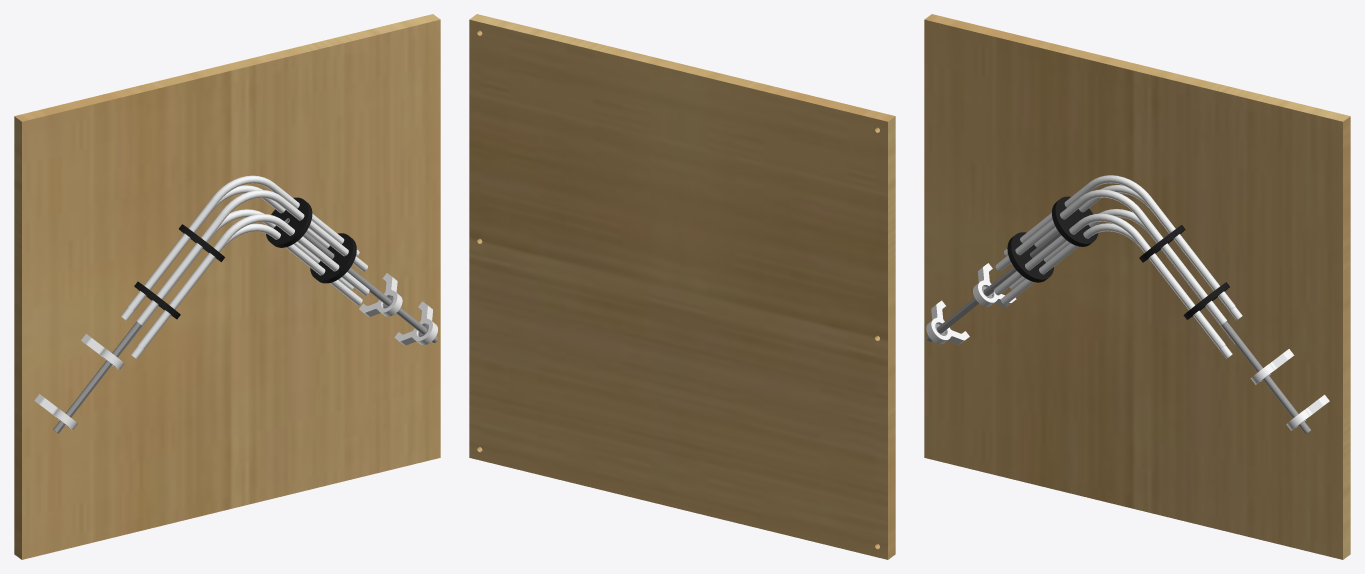
The model's file is hobsons_joint.glb.
3 views of the same model, side by side, from view 1: azimuth 30°, elevation 25°; view 2: azimuth 150°, elevation 25°; view 3: azimuth 330°, elevation 25° (orthographic).
Parts seen in each view (by area): view 1: _400x400panel, Body1, Body1.009, Body1.001, Body1.003, Body1.002, Body1.019, Body1.004, Body1.006, Body1.008, Body1.012, Body1.005 (+1 smaller); view 2: _400x400panel; view 3: _400x400panel, Body1, Body1.009, Body1.001, Body1.003, Body1.016, Body1.018, Body1.006, Body1.019, Body1.017, Body1.005, Body1.007 (+1 smaller).
Part boxes in pixels (x1,y1,x2,y2): _400x400panel: [14, 14, 440, 559]; Body1: [138, 214, 369, 349]; Body1.009: [136, 190, 367, 325]; Body1.001: [128, 175, 359, 310]; Body1.003: [131, 223, 362, 358]; Body1.002: [266, 197, 312, 247]; Body1.019: [53, 249, 201, 433]; Body1.004: [310, 233, 356, 283]; Body1.006: [284, 218, 437, 342]; Body1.008: [394, 301, 437, 345]; Body1.012: [359, 273, 402, 316]; Body1.005: [121, 185, 329, 320]; _400x400panel: [469, 14, 895, 559]; _400x400panel: [924, 14, 1350, 559]; Body1: [994, 213, 1225, 349]; Body1.009: [995, 189, 1226, 324]; Body1.001: [1004, 175, 1235, 310]; Body1.003: [1001, 223, 1232, 358]; Body1.016: [1052, 196, 1098, 246]; Body1.018: [1007, 232, 1053, 282]; Body1.006: [1170, 260, 1310, 434]; Body1.019: [926, 231, 1060, 341]; Body1.017: [926, 300, 969, 344]; Body1.005: [1011, 185, 1242, 320]; Body1.007: [1010, 209, 1235, 344].
Bounding box in the file's own units: 400 × 400 × 59.18.
5 materials, 1 textured.
